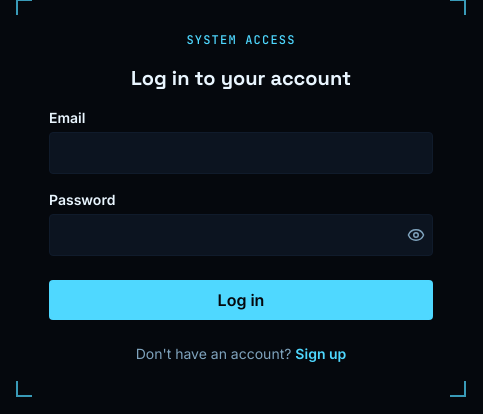
Test: AuthForm › toggles password visibility, including with rapid repeated clicks
Click the button named "show password" at [416, 235], box [407, 226, 425, 244]
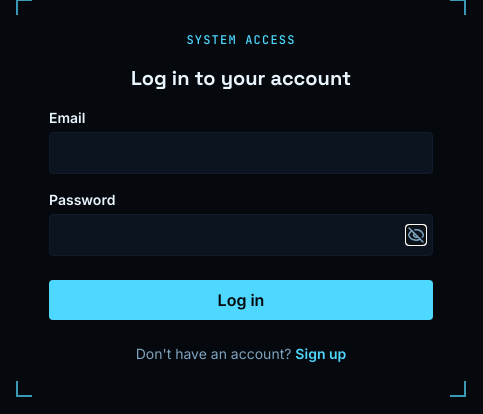
// rapid repeated clicks (even count, so visibility ends back where it started: shown)
Click the button named "hide password" at [416, 235], box [407, 226, 425, 244]
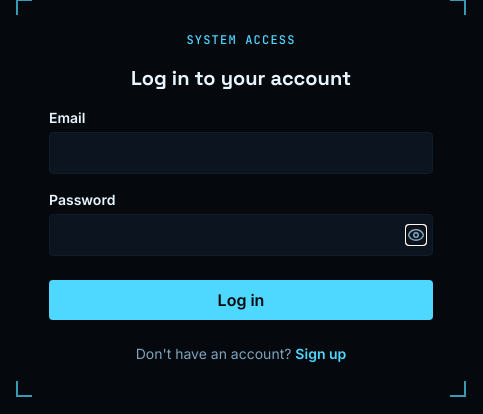
Click the button named "show password" at [416, 235], box [407, 226, 425, 244]
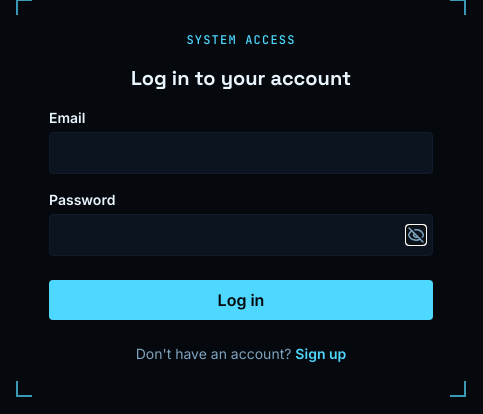
Click the button named "hide password" at [416, 235], box [407, 226, 425, 244]
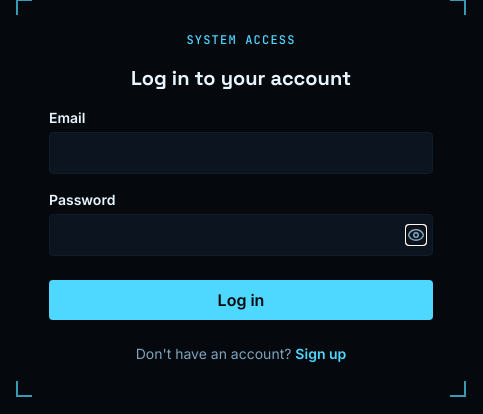
Click the button named "show password" at [416, 235], box [407, 226, 425, 244]
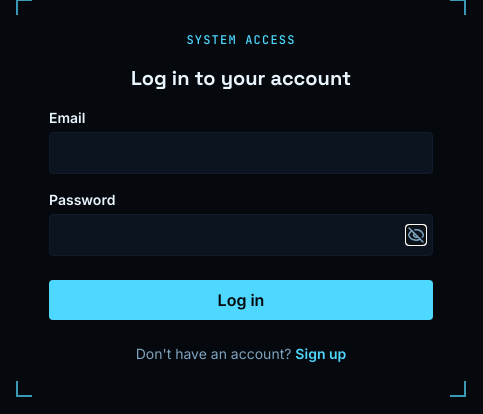
Expected: the button named "hide password" is shown, [407, 226, 425, 244]
